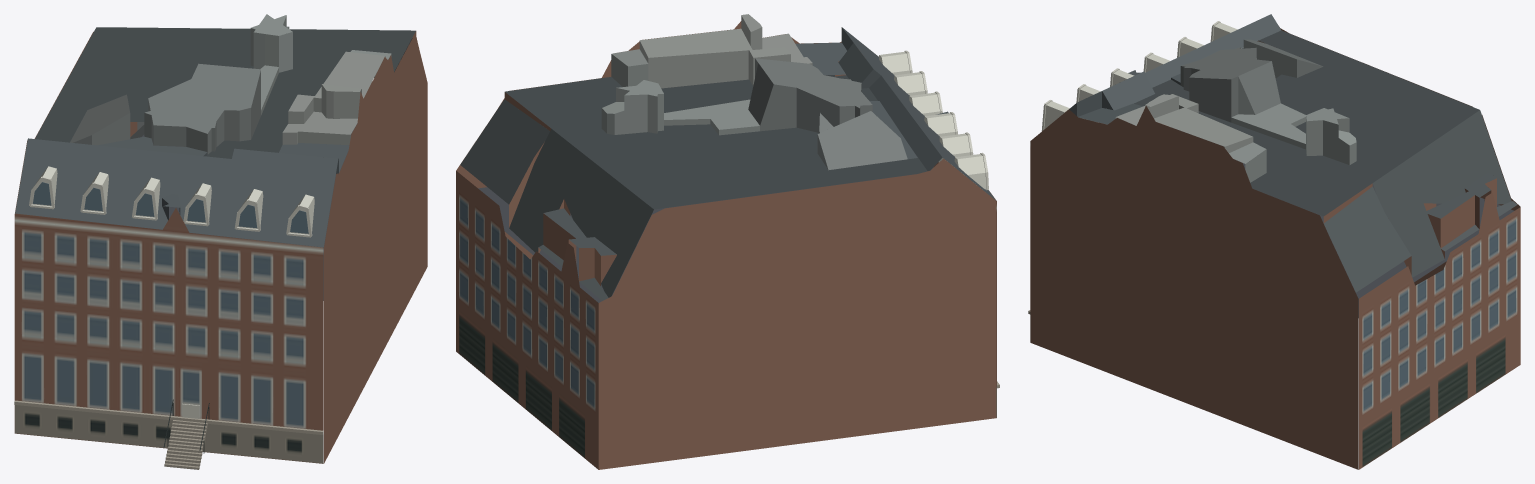
3 views of the same model, side by side, from view 1: azimuth 30°, elevation 25°; view 2: azimuth 150°, elevation 25°; view 3: azimuth 270°, elevation 25° (orthographic). The views are drawn at different scales.
Visible parts, largest first — view 1: 0363100012176244; view 2: 0363100012176244; view 3: 0363100012176244.
Part boxes in pixels (x1,y1,x2,y2): 0363100012176244: [14, 14, 427, 469]; 0363100012176244: [456, 14, 999, 469]; 0363100012176244: [1028, 14, 1520, 469].
Bounding box in the file's own units: 39.26 × 23.69 × 37.26.
Materials: 2 (1 with a texture image).
